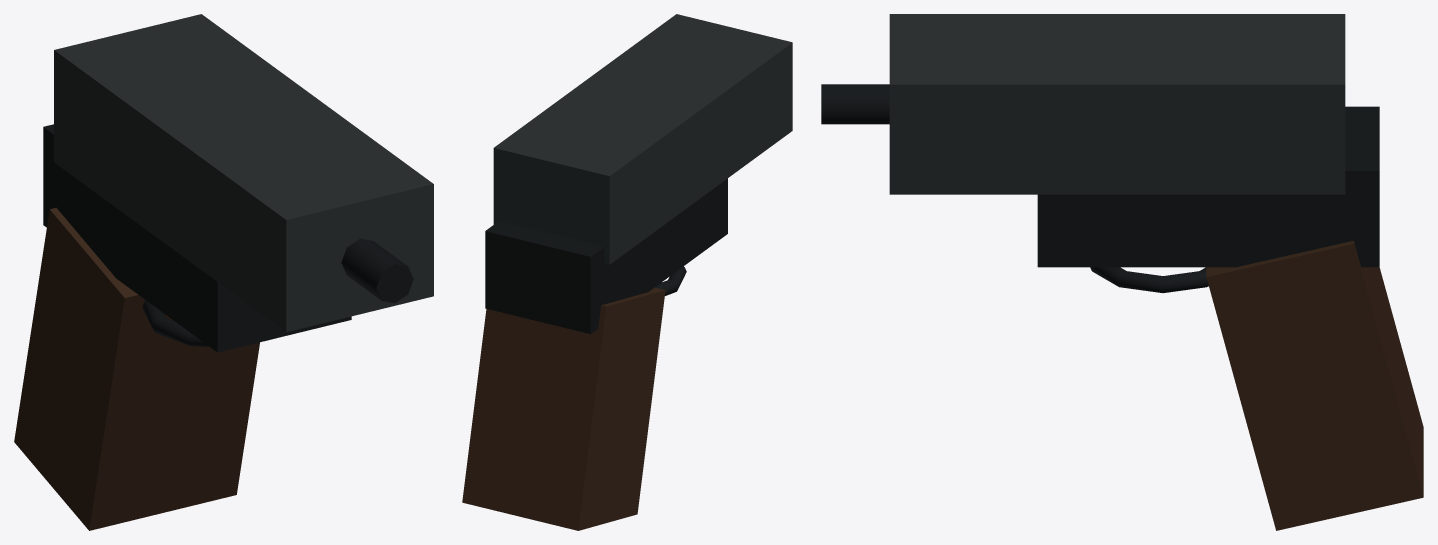
File: m1911-pistol.glb
3 views of the same model, side by side, from view 1: azimuth 30°, elevation 25°; view 2: azimuth 150°, elevation 25°; view 3: azimuth 270°, elevation 25° (orthographic). The views are drawn at different scales.
Visible parts, largest first — view 1: slide, grip, frame, barrel, triggerGuard; view 2: slide, grip, frame, triggerGuard; view 3: slide, grip, frame, barrel, triggerGuard.
Part boxes in pixels (box(x1,y1,x2,y2)): slide: box(54, 14, 433, 332); grip: box(14, 207, 259, 530); frame: box(43, 124, 351, 352); barrel: box(341, 238, 413, 303); triggerGuard: box(142, 300, 209, 346); slide: box(493, 14, 792, 264); grip: box(462, 287, 665, 530); frame: box(485, 178, 727, 334); triggerGuard: box(655, 266, 686, 295); slide: box(889, 14, 1345, 194); grip: box(1206, 240, 1423, 530); frame: box(1037, 106, 1379, 267); barrel: box(821, 84, 889, 124); triggerGuard: box(1090, 267, 1208, 293).
Size of the model in its own units: 0.22 by 0.6485 by 0.793.
